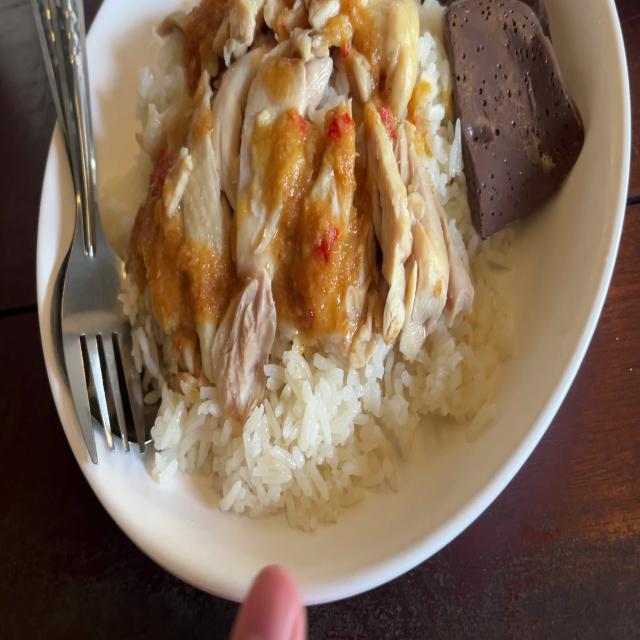boiled_chicken: (133, 0, 437, 373)
boiled_chicken_blood_jelly: (449, 0, 580, 215)
chicken_rice: (123, 0, 592, 525)
